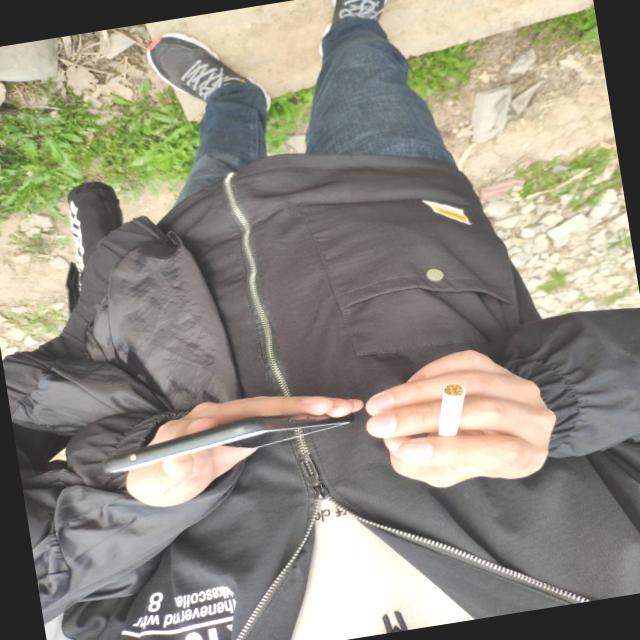smoke: (429, 378, 474, 441)
